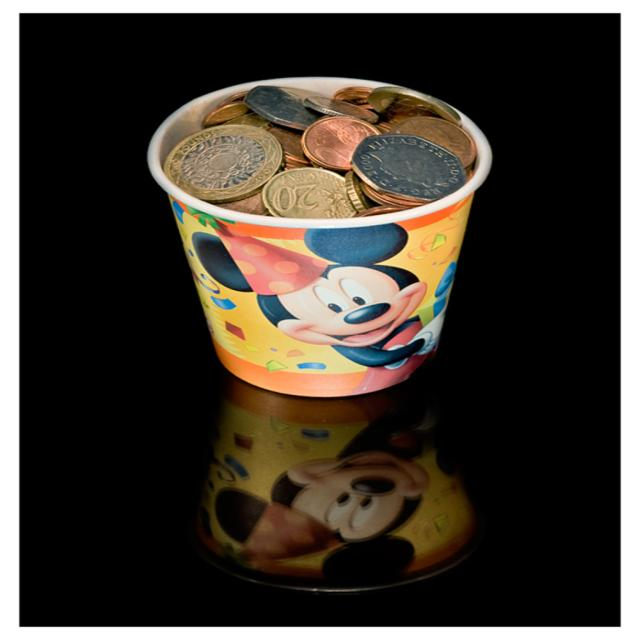Coin: (161, 81, 478, 213)
